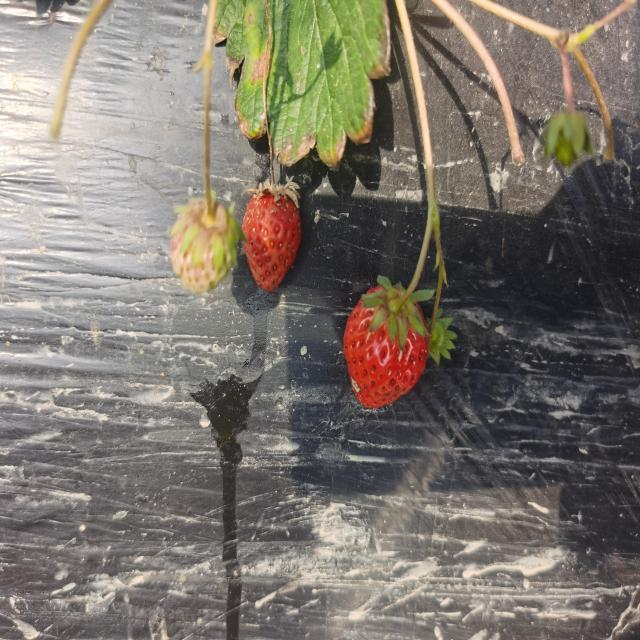stem: (391, 244, 428, 314), (205, 144, 215, 220), (269, 143, 276, 191)
strawberry: (343, 285, 429, 408), (170, 200, 238, 292), (241, 189, 301, 292)
